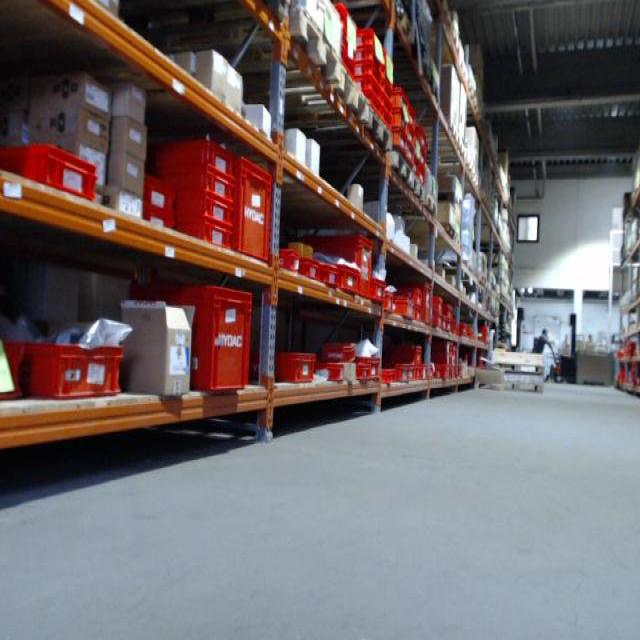pallet: (137, 9, 338, 115), (205, 46, 374, 134), (343, 103, 393, 157), (360, 1, 412, 50), (392, 216, 456, 251), (369, 146, 413, 192), (397, 167, 428, 205), (422, 195, 437, 219)
pallet_truck: (540, 308, 579, 389), (501, 304, 536, 349)
small_load_carrier: (127, 281, 254, 396), (0, 140, 102, 205), (2, 343, 115, 399), (303, 228, 372, 302), (230, 155, 274, 264), (152, 137, 239, 177), (156, 168, 235, 198), (174, 189, 232, 222), (166, 221, 232, 248), (275, 352, 318, 386), (142, 170, 174, 207), (341, 355, 379, 385), (392, 277, 424, 305), (139, 205, 172, 232), (324, 342, 364, 360), (337, 268, 357, 299), (356, 89, 379, 114), (280, 248, 302, 274), (303, 256, 321, 286), (321, 362, 348, 382), (391, 347, 424, 363), (321, 264, 341, 289), (356, 59, 381, 79), (359, 28, 381, 50), (373, 278, 386, 308), (396, 298, 412, 322), (424, 282, 433, 324), (386, 133, 403, 155), (394, 363, 406, 387), (356, 79, 382, 89), (385, 288, 394, 314), (405, 144, 414, 168), (358, 49, 381, 58), (382, 365, 394, 382), (360, 365, 372, 381), (417, 308, 424, 323), (416, 365, 421, 382), (408, 365, 414, 379), (422, 368, 427, 377)
